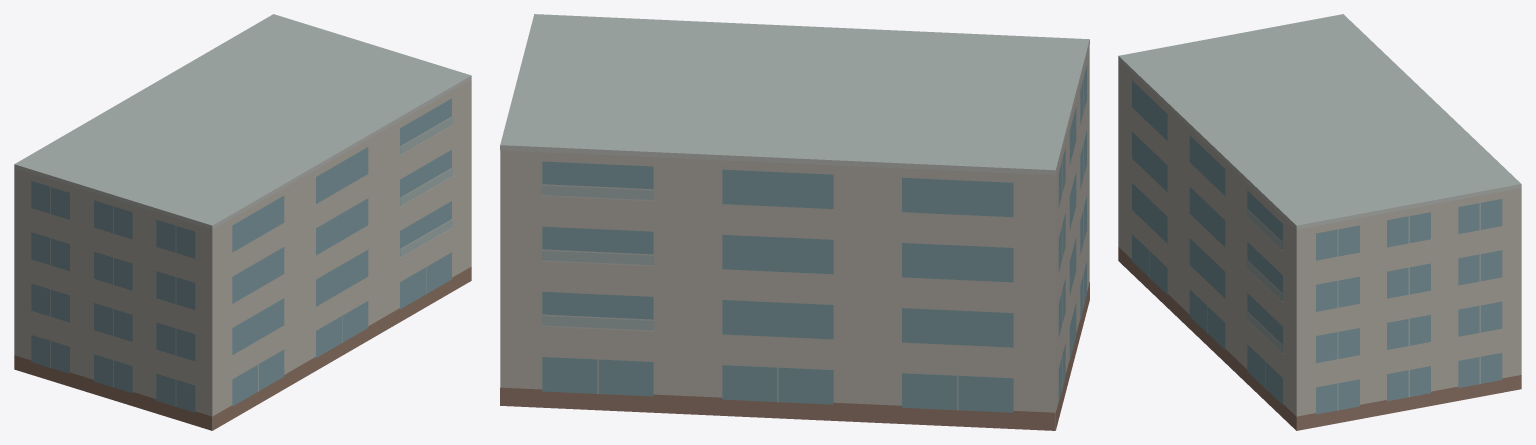
Rendered from survey-upis-32817080.glb.
3 views of the same model, side by side, from view 1: azimuth 30°, elevation 25°; view 2: azimuth 150°, elevation 25°; view 3: azimuth 270°, elevation 25° (orthographic). The views are drawn at different scales.
Visible parts, largest first — view 1: survey-upis-32817080.tmp; view 2: survey-upis-32817080.tmp; view 3: survey-upis-32817080.tmp.
Part boxes in pixels (x1,y1,x2,y2): survey-upis-32817080.tmp: (14, 14, 471, 430); survey-upis-32817080.tmp: (500, 14, 1089, 430); survey-upis-32817080.tmp: (1118, 14, 1521, 430).
Size of the model in its own units: 27.67 by 12.5 by 22.26.
